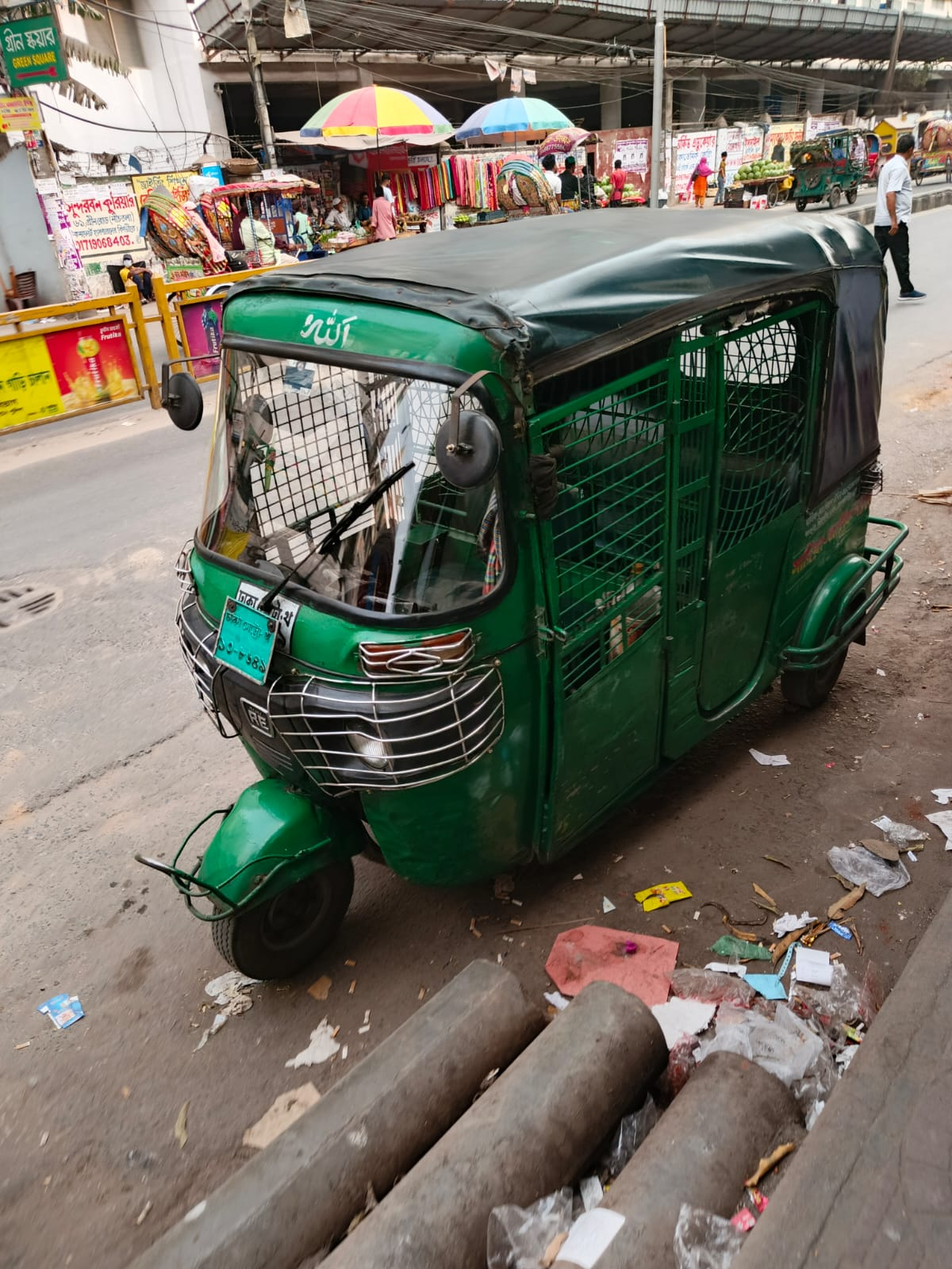auto-ricksaw: (140, 154, 372, 285), (767, 135, 903, 217)
cng: (148, 186, 952, 1063)
